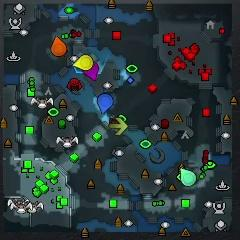p1: (98, 93, 112, 114)
p2: (180, 167, 196, 186)
p3: (84, 62, 99, 79)
p4: (74, 55, 93, 70)
p5: (51, 36, 67, 56)
x2: (110, 118, 127, 135)
